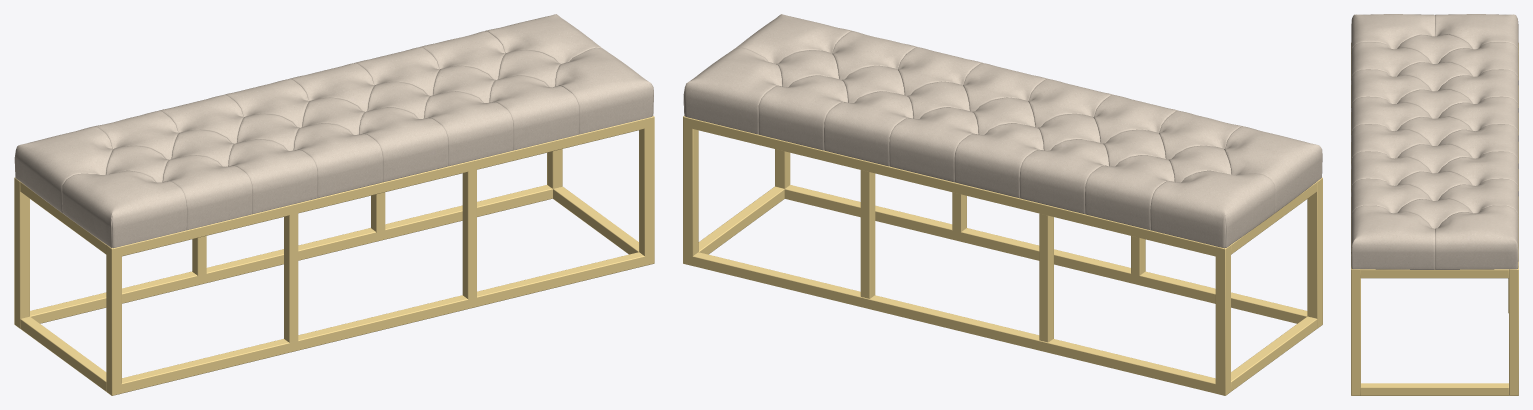
File: glam_tufted_gold_leg_bench.glb
3 views of the same model, side by side, from view 1: azimuth 30°, elevation 25°; view 2: azimuth 150°, elevation 25°; view 3: azimuth 270°, elevation 25° (orthographic). The views are drawn at different scales.
Visible parts, largest first — view 1: B075QDV39B; view 2: B075QDV39B; view 3: B075QDV39B.
Boxes of the visible parts, x1=… form: B075QDV39B: x1=14, y1=14, x2=654, y2=395; B075QDV39B: x1=683, y1=14, x2=1322, y2=395; B075QDV39B: x1=1351, y1=14, x2=1518, y2=395.
Bounding box in the file's own units: 1.47 × 0.4842 × 0.4572.
1 material, 1 textured.
